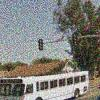buses: (0, 69, 89, 100)
